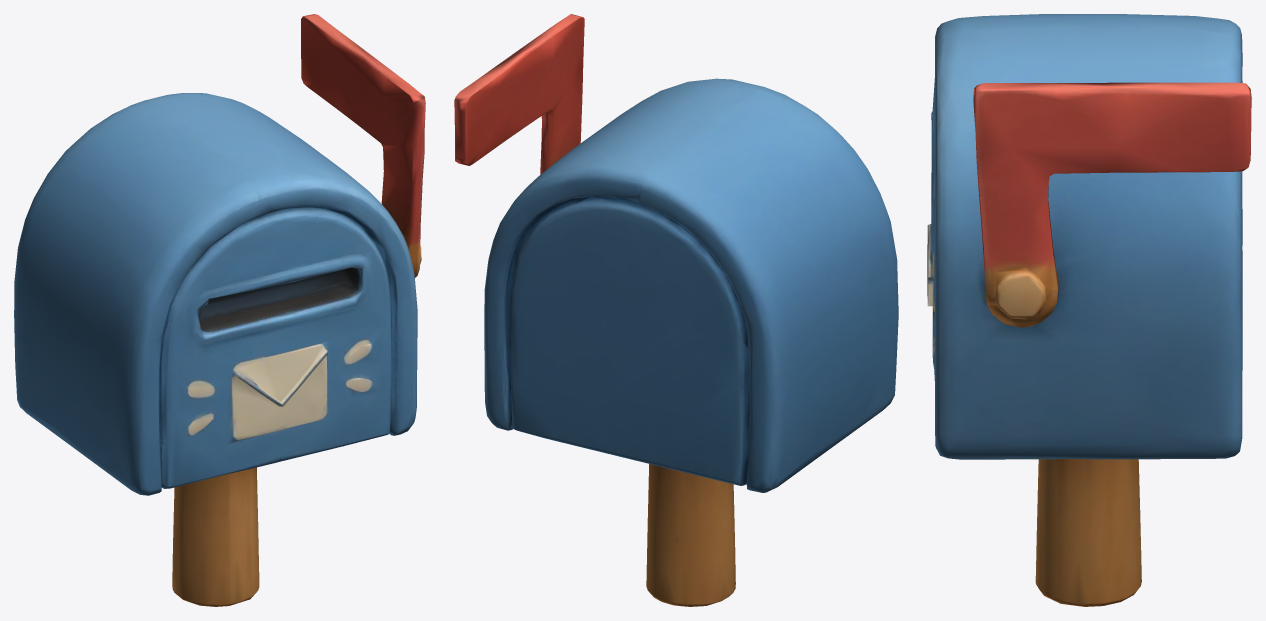
File: mailbox.glb
3 renders of one model, left to right at view 1: azimuth 30°, elevation 25°; view 2: azimuth 150°, elevation 25°; view 3: azimuth 270°, elevation 25°, orthographic. The views are drawn at different scales.
Visible parts, largest first — view 1: tripo_node_6b1d065d-c523-4657-b334-2a28ecc59cdc; view 2: tripo_node_6b1d065d-c523-4657-b334-2a28ecc59cdc; view 3: tripo_node_6b1d065d-c523-4657-b334-2a28ecc59cdc.
Boxes of the visible parts, x1=… form: tripo_node_6b1d065d-c523-4657-b334-2a28ecc59cdc: x1=14, y1=14, x2=425, y2=606; tripo_node_6b1d065d-c523-4657-b334-2a28ecc59cdc: x1=454, y1=14, x2=898, y2=606; tripo_node_6b1d065d-c523-4657-b334-2a28ecc59cdc: x1=927, y1=14, x2=1251, y2=606.
Bounding box in the file's own units: 0.6737 × 1 × 0.4927.
Materials: 1 (1 with a texture image).
